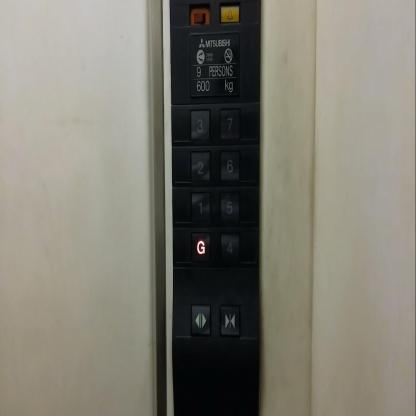1: (189, 188, 212, 224)
2: (188, 147, 211, 183)
3: (188, 106, 211, 142)
4: (219, 231, 241, 267)
5: (218, 190, 241, 226)
6: (218, 146, 241, 182)
7: (217, 106, 240, 142)
G: (189, 230, 212, 266)
alarm: (218, 1, 242, 26)
close: (218, 302, 241, 338)
open: (189, 301, 212, 337)
switch: (188, 0, 212, 29)
